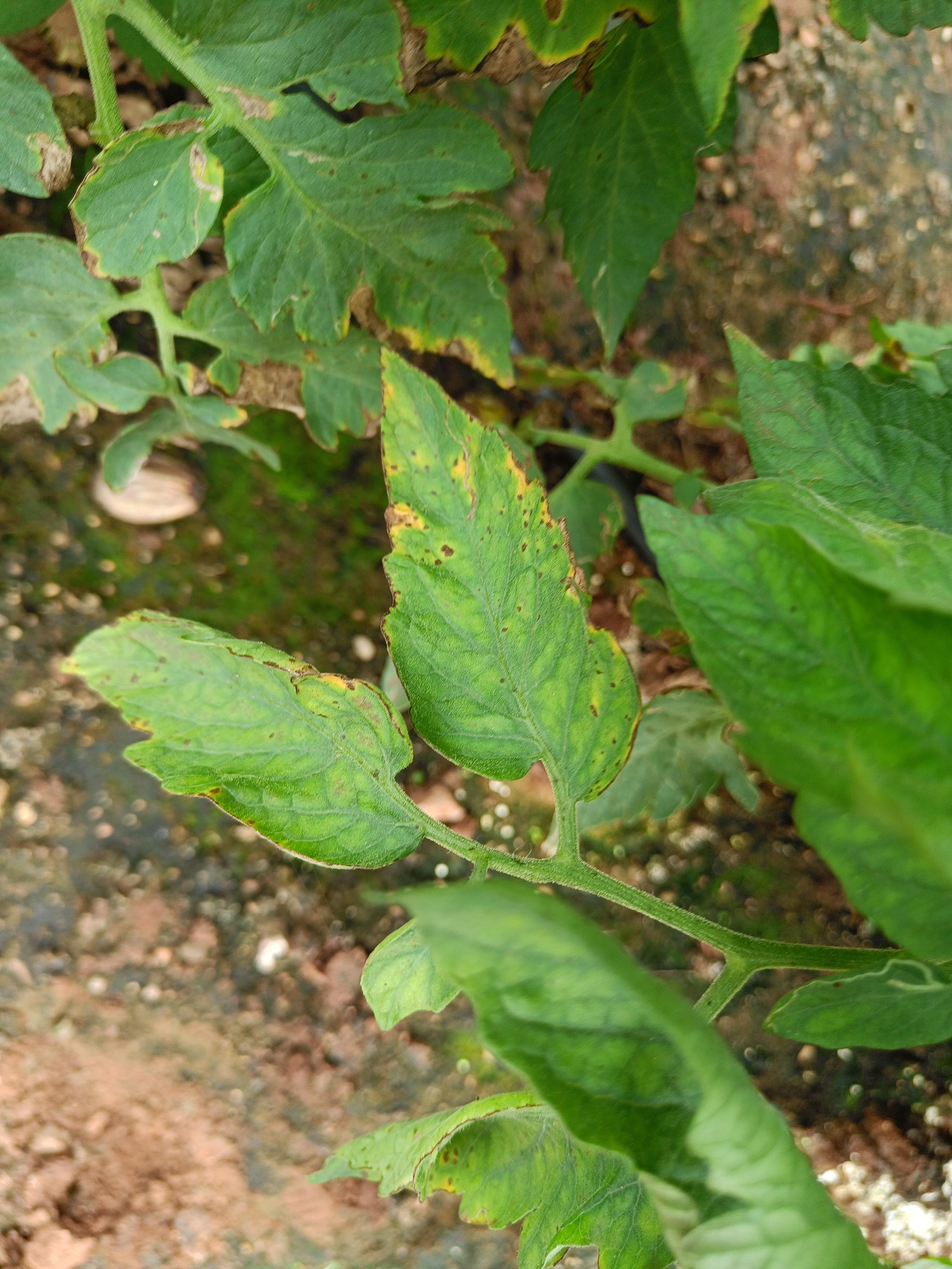Early Blight: (366, 340, 649, 806), (62, 604, 429, 872), (226, 94, 516, 389), (70, 102, 223, 279)
